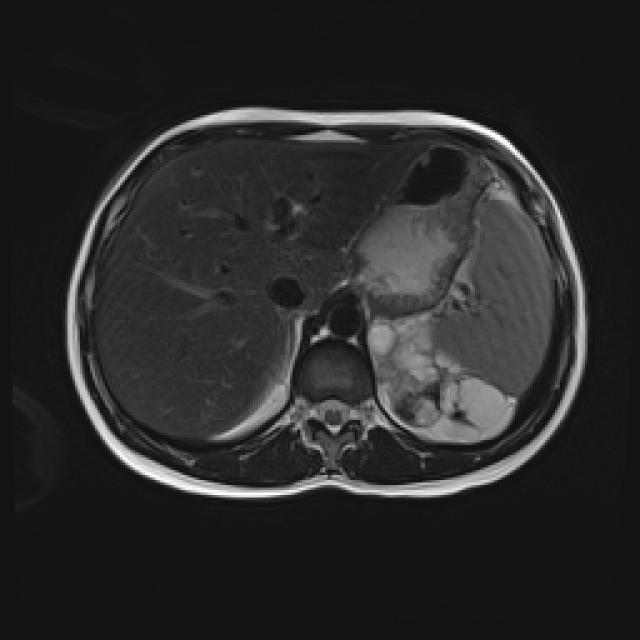sag: (267, 380, 288, 409)
sol: (369, 315, 515, 440)
